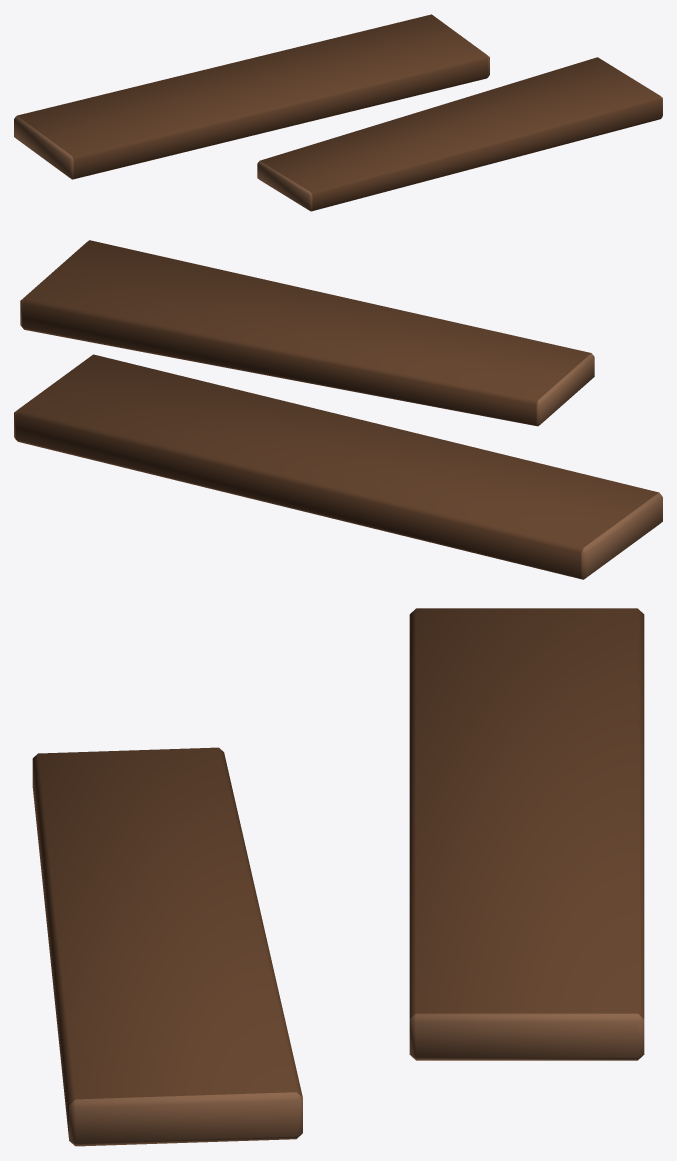
The model's file is WoodenPavement_2.fbx.
3 renders of one model, top to bottom at view 1: azimuth 30°, elevation 25°; view 2: azimuth 150°, elevation 25°; view 3: azimuth 270°, elevation 25°, orthographic. The views are drawn at different scales.
Visible parts, largest first — view 1: WoodenPavement_2; view 2: WoodenPavement_2; view 3: WoodenPavement_2.
Boxes of the visible parts, left/top/right/bottom form: WoodenPavement_2: left=14, top=14, right=662, bottom=211; WoodenPavement_2: left=14, top=240, right=662, bottom=579; WoodenPavement_2: left=32, top=608, right=644, bottom=1146.
Bounding box in the file's own units: 97.53 × 4.31 × 50.78.
